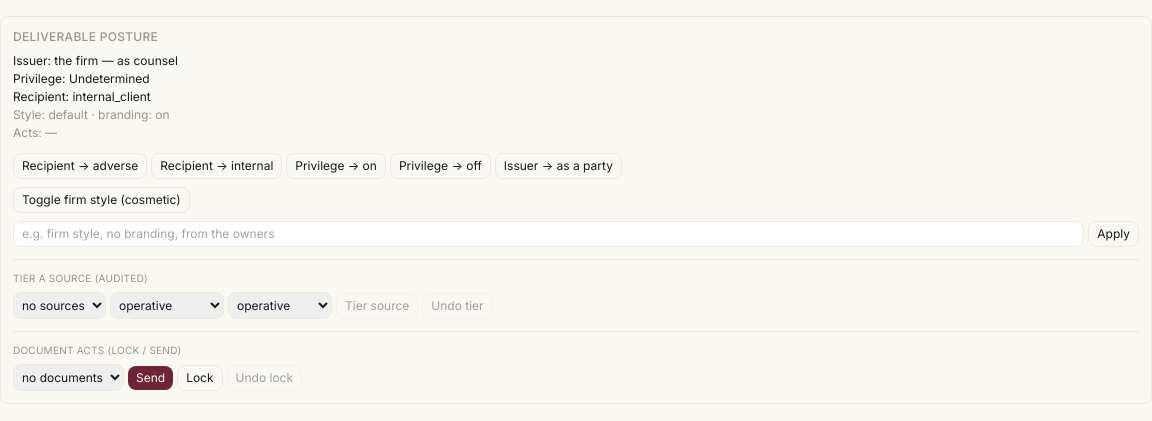
Test case: ChatDeliverable — cosmetic / posture / send › a cosmetic styling toggle applies silently (no confirm, no record)
Step 1. Click the button with test id "ctl-cosmetic-firmstyle" → (101,200), box x1=13 y1=187 x2=190 y2=213
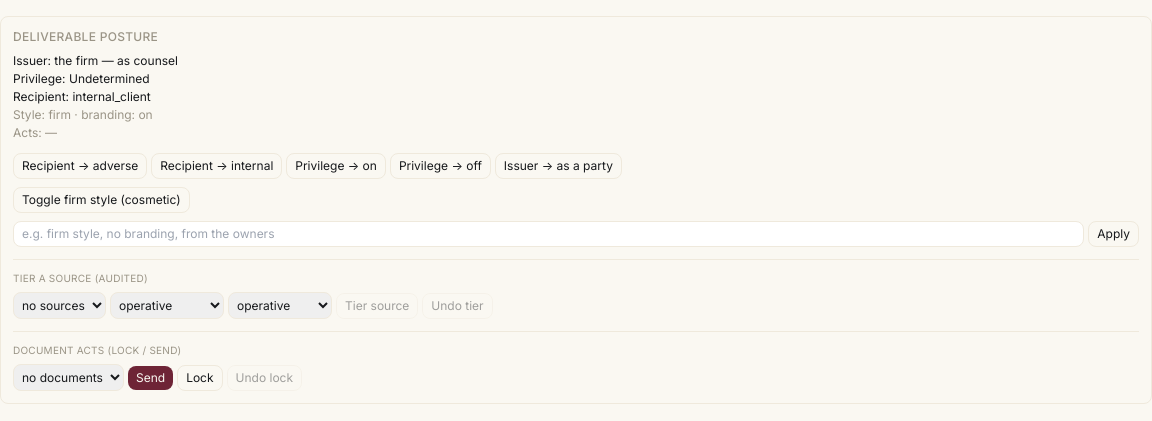
Now the text with test id "dt-cosmetic" shows "firm", box x1=48 y1=107 x2=71 y2=122
